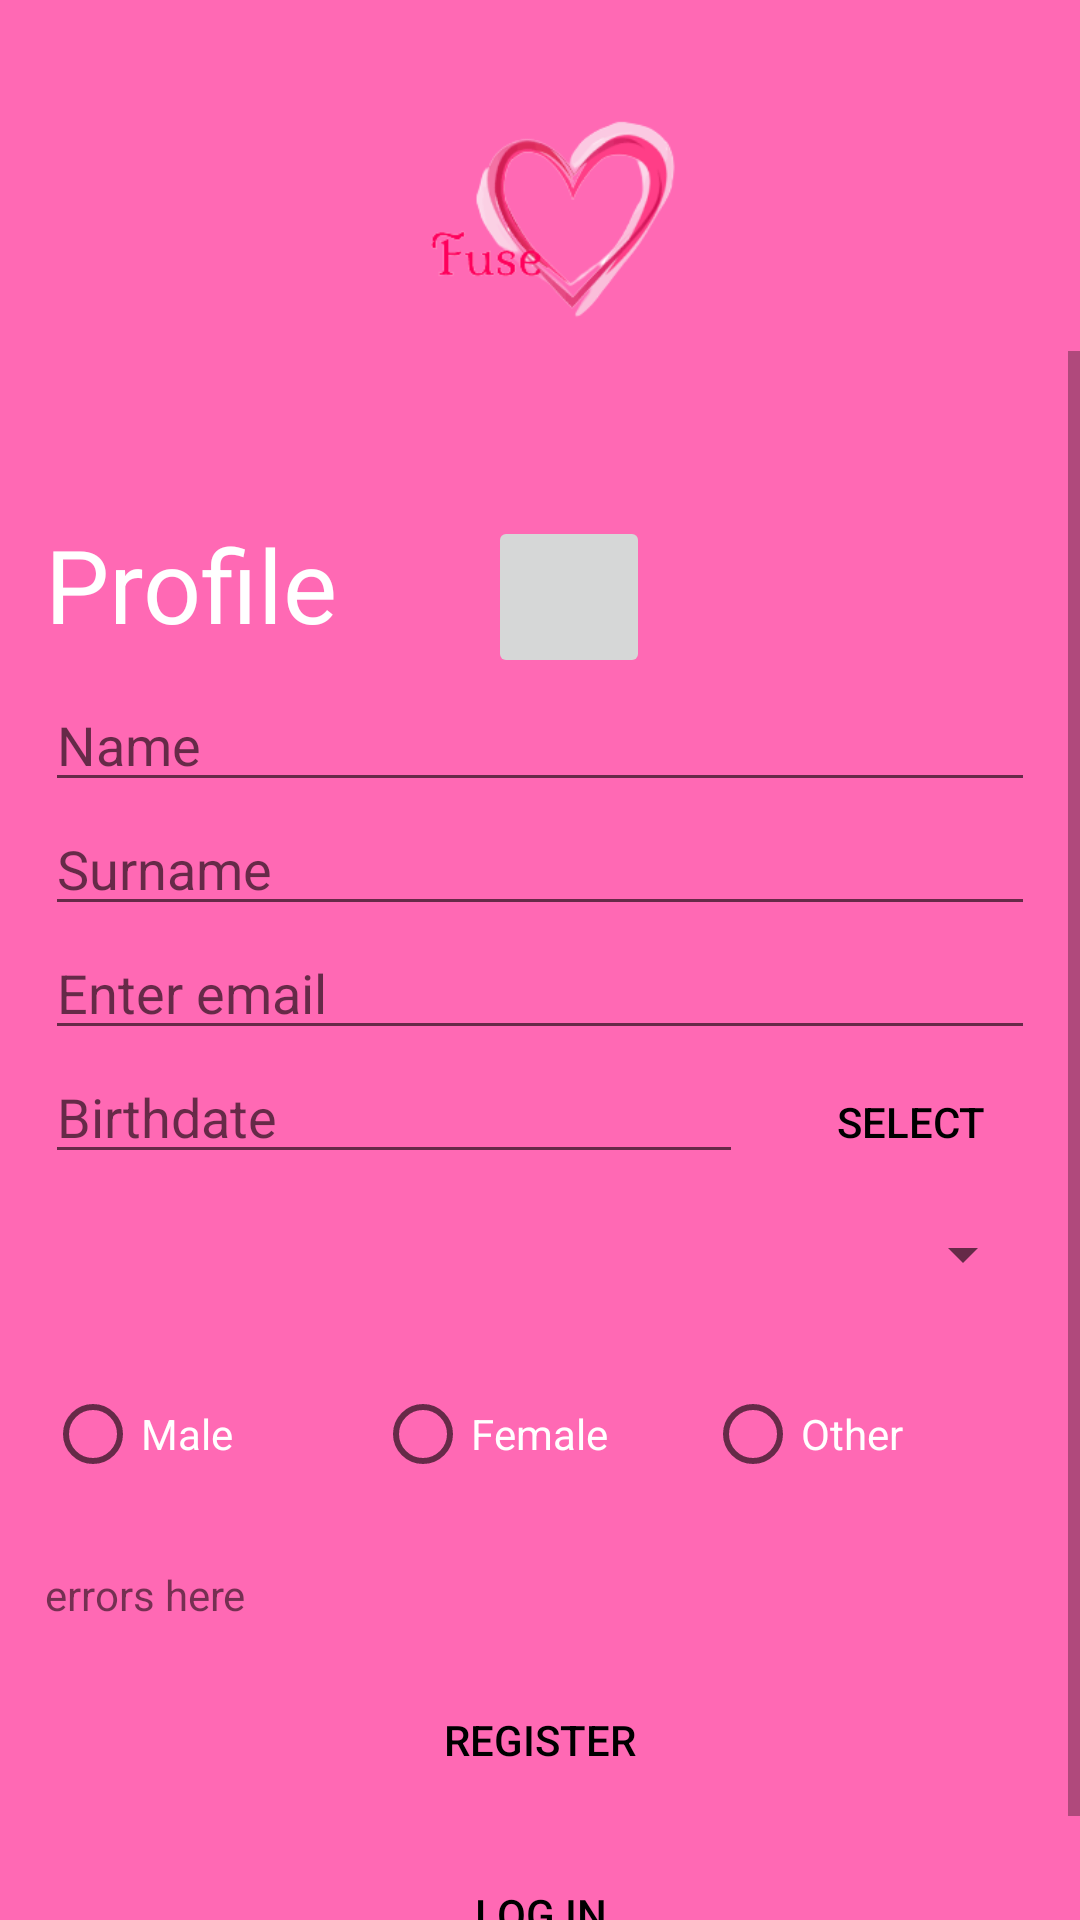

Locate icon controls on the screen. Image size 1080w x 1920h, boxes as bbox=(x1, y1, x2, y2).
fuselove: bbox=(432, 122, 675, 316)
